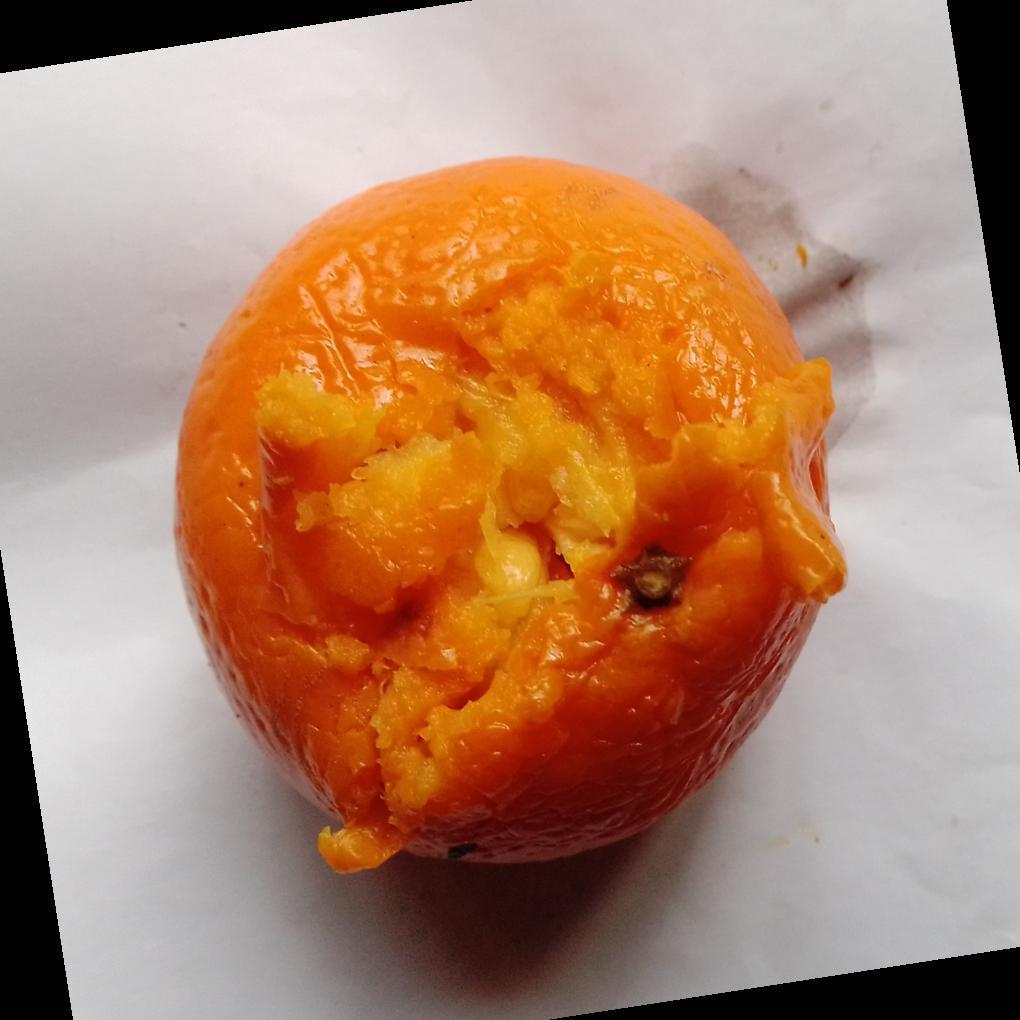FreshOrange: (173, 157, 848, 878)
